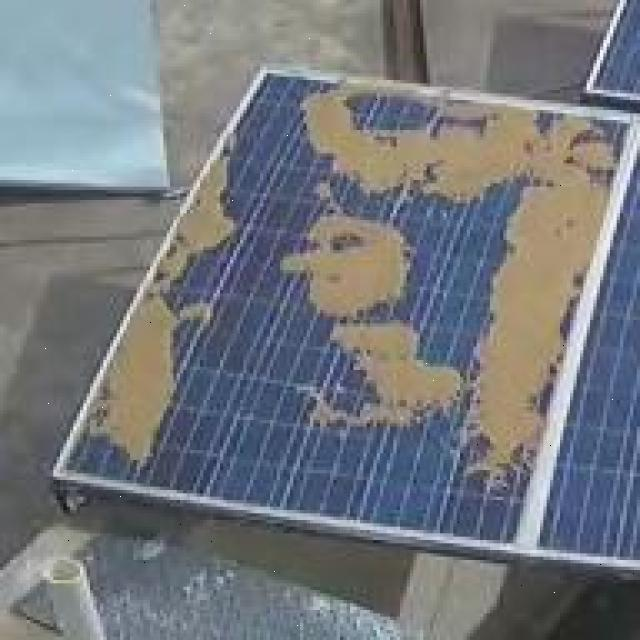Anomaly Solar Panel: (60, 2, 626, 590)
Surface Contaminant: (251, 76, 623, 501), (68, 135, 287, 467), (269, 179, 427, 340), (297, 315, 458, 426)
